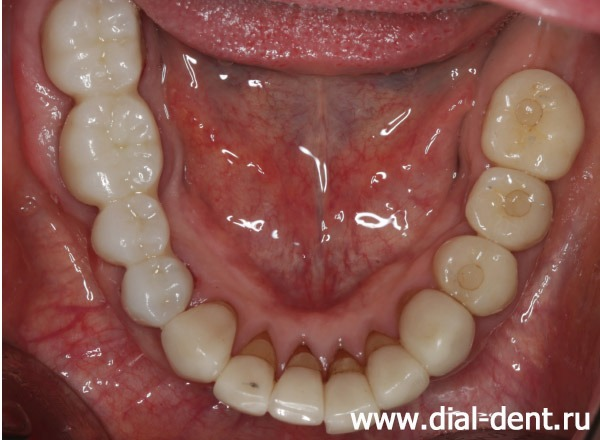LL1BC_decay: (437, 236, 517, 312)
LL1M_decay: (484, 67, 583, 175)
LL2BC_decay: (467, 169, 555, 245)
LLCI_decay: (327, 345, 370, 408)
LLC_healthy: (402, 291, 477, 372)
LLLI_decay: (369, 335, 429, 398)
LR1BC_healthy: (120, 254, 195, 323)
LR1M_healthy: (61, 96, 159, 199)
LR2BC_healthy: (93, 200, 172, 260)
LR2M_healthy: (44, 1, 145, 91)
LRCI_decay: (273, 347, 325, 426)
LRC_healthy: (166, 301, 234, 378)
LRLI_decay: (226, 334, 272, 415)
